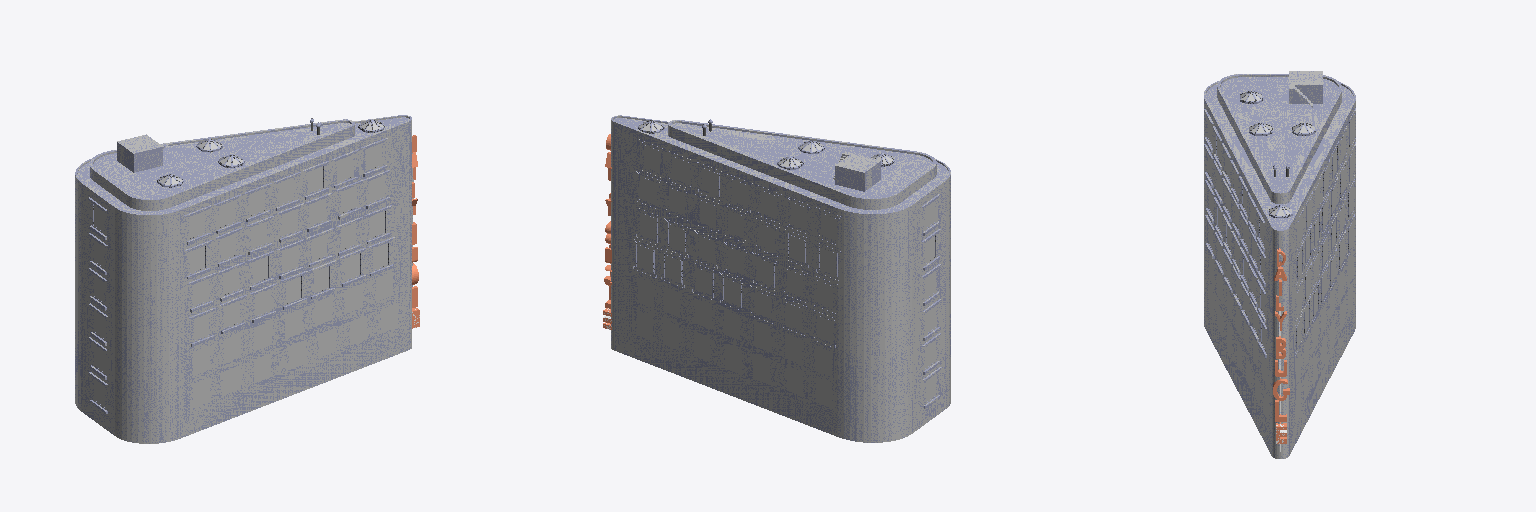
File: dailybug.obj
3 views of the same model, side by side, from view 1: azimuth 30°, elevation 25°; view 2: azimuth 150°, elevation 25°; view 3: azimuth 270°, elevation 25° (orthographic).
Parts seen in each view (by area): view 1: SketchUp_ID4___Smooth_Face_Concrete_Block_, SketchUp_ID4_concreto, SketchUp.014_ID158_concreto, SketchUp.005_ID70___Smooth_Face_Concrete_Block_, SketchUp.014_ID158___Concrete_, SketchUp.001_ID25_concreto, SketchUp.005_ID70_concreto, SketchUp.009_ID110_concreto, SketchUp.001_ID25___Concrete_; view 2: SketchUp_ID4___Smooth_Face_Concrete_Block_, SketchUp_ID4_concreto, SketchUp.014_ID158_concreto, SketchUp.005_ID70___Smooth_Face_Concrete_Block_, SketchUp.014_ID158___Concrete_, SketchUp.001_ID25_concreto, SketchUp.005_ID70_concreto, SketchUp.001_ID25___Concrete_, SketchUp.009_ID110_concreto, SketchUp.006_ID80_concreto; view 3: SketchUp_ID4___Smooth_Face_Concrete_Block_, SketchUp_ID4_concreto, SketchUp.014_ID158_concreto, SketchUp.001_ID25_concreto, SketchUp.014_ID158___Concrete_, SketchUp.001_ID25___Concrete_, SketchUp.005_ID70___Smooth_Face_Concrete_Block_, SketchUp.005_ID70_concreto.
Part boxes in pixels (left/top/right/bottom): SketchUp_ID4___Smooth_Face_Concrete_Block_: left=75, top=116, right=411, bottom=443; SketchUp_ID4_concreto: left=75, top=116, right=411, bottom=443; SketchUp.014_ID158_concreto: left=93, top=123, right=348, bottom=198; SketchUp.005_ID70___Smooth_Face_Concrete_Block_: left=90, top=125, right=354, bottom=210; SketchUp.014_ID158___Concrete_: left=95, top=123, right=350, bottom=198; SketchUp.001_ID25_concreto: left=77, top=117, right=408, bottom=214; SketchUp.005_ID70_concreto: left=90, top=126, right=354, bottom=210; SketchUp.009_ID110_concreto: left=117, top=142, right=168, bottom=172; SketchUp.001_ID25___Concrete_: left=78, top=117, right=409, bottom=214; SketchUp_ID4___Smooth_Face_Concrete_Block_: left=611, top=117, right=950, bottom=442; SketchUp_ID4_concreto: left=611, top=117, right=950, bottom=442; SketchUp.014_ID158_concreto: left=672, top=123, right=932, bottom=197; SketchUp.005_ID70___Smooth_Face_Concrete_Block_: left=668, top=125, right=936, bottom=209; SketchUp.014_ID158___Concrete_: left=673, top=123, right=932, bottom=197; SketchUp.001_ID25_concreto: left=614, top=118, right=948, bottom=213; SketchUp.005_ID70_concreto: left=668, top=126, right=936, bottom=209; SketchUp.001_ID25___Concrete_: left=614, top=118, right=948, bottom=212; SketchUp.009_ID110_concreto: left=835, top=161, right=880, bottom=191; SketchUp.006_ID80_concreto: left=668, top=120, right=936, bottom=198; SketchUp_ID4___Smooth_Face_Concrete_Block_: left=1204, top=101, right=1355, bottom=458; SketchUp_ID4_concreto: left=1204, top=99, right=1355, bottom=458; SketchUp.014_ID158_concreto: left=1221, top=77, right=1338, bottom=191; SketchUp.001_ID25_concreto: left=1206, top=85, right=1353, bottom=229; SketchUp.014_ID158___Concrete_: left=1222, top=77, right=1338, bottom=191; SketchUp.001_ID25___Concrete_: left=1206, top=84, right=1353, bottom=228; SketchUp.005_ID70___Smooth_Face_Concrete_Block_: left=1217, top=87, right=1341, bottom=203; SketchUp.005_ID70_concreto: left=1217, top=88, right=1341, bottom=203.
Bounding box in the file's own units: 14.38 × 10.85 × 5.88.